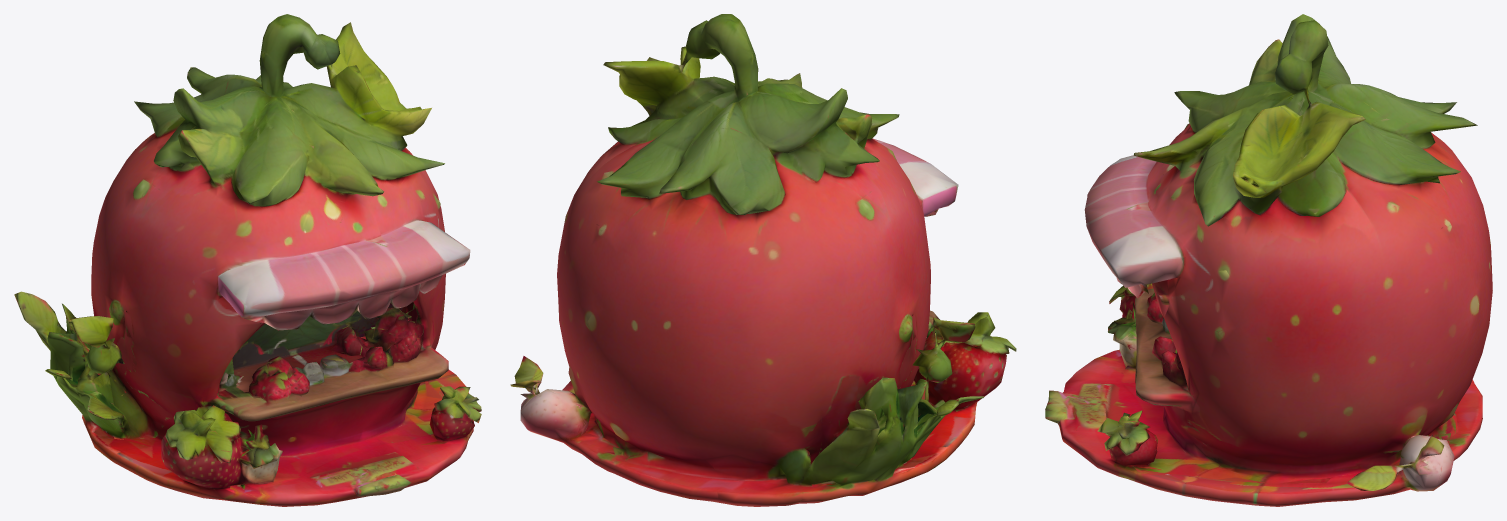
The model's file is Meshy_AI_Strawberry_Kiosk_1229170917_texture.fbx.
The picture shows the model from 3 angles, left to right: view 1: azimuth 30°, elevation 25°; view 2: azimuth 150°, elevation 25°; view 3: azimuth 270°, elevation 25°; orthographic projection. The views are drawn at different scales.
Visible parts, largest first — view 1: Mesh_0; view 2: Mesh_0; view 3: Mesh_0.
Part boxes in pixels (box(x1,y1,x2,y2)): Mesh_0: box(14, 14, 481, 506); Mesh_0: box(510, 14, 1016, 506); Mesh_0: box(1045, 14, 1492, 506).
Size of the model in its own units: 200 by 186 by 182.
Materials: 1 (1 with a texture image).
